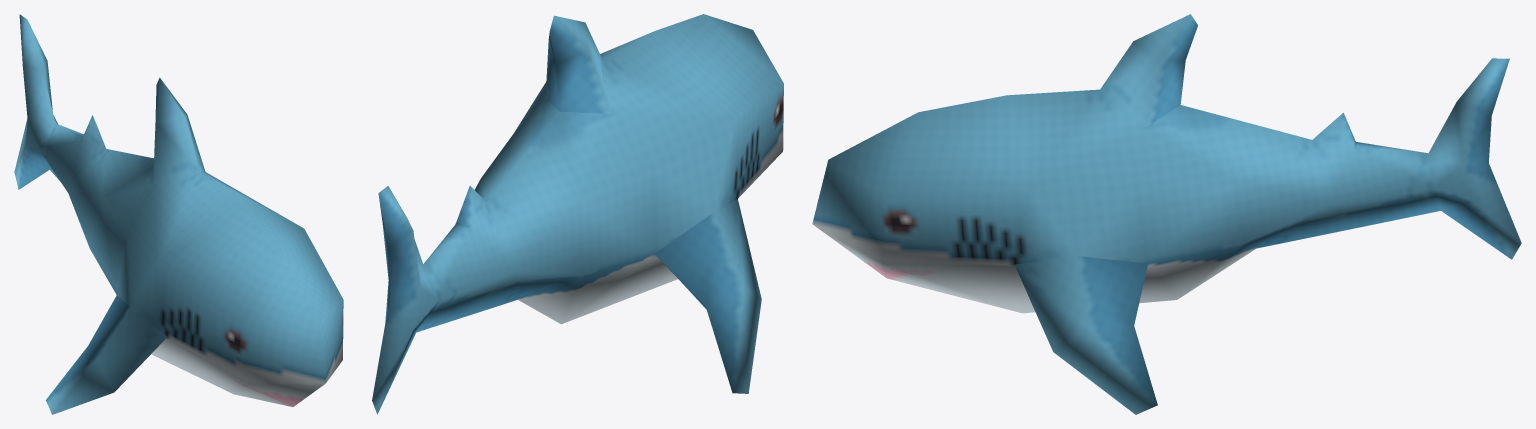
File: PSXBlahaj.fbx
The picture shows the model from 3 angles, left to right: view 1: azimuth 30°, elevation 25°; view 2: azimuth 150°, elevation 25°; view 3: azimuth 270°, elevation 25°; orthographic projection. The views are drawn at different scales.
Parts seen in each view (by area): view 1: OBJ_Blahaj; view 2: OBJ_Blahaj; view 3: OBJ_Blahaj.
Boxes of the visible parts, x1,y1,x2,y2 form: OBJ_Blahaj: (14, 14, 343, 414); OBJ_Blahaj: (372, 14, 783, 414); OBJ_Blahaj: (812, 14, 1521, 414).
Bounding box in the file's own units: 54.26 × 56.73 × 111.
